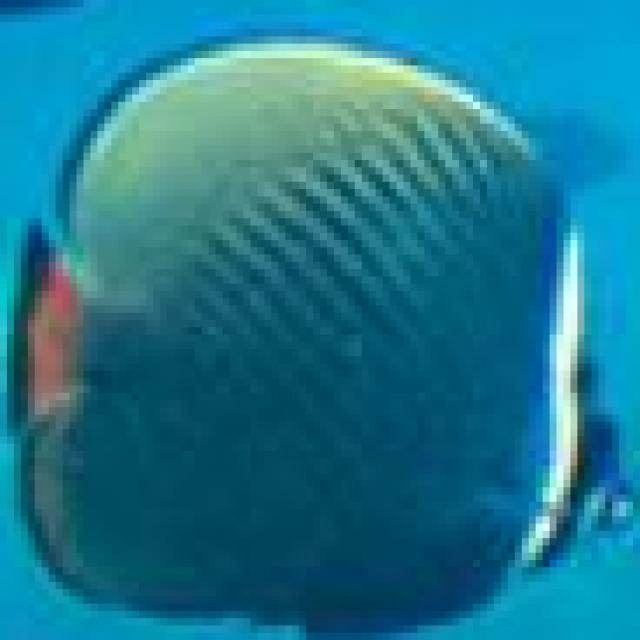fish: (0, 7, 633, 640)
